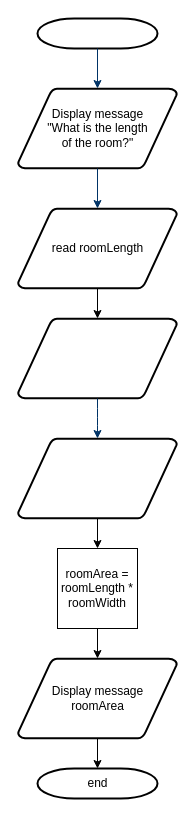
Some shapes in this 195 by 816 pixel diagram are drawn without their labels. The shapes that lost their labels are listed below. From the top down, each one's centre as x and y in pixels, then its label:
point (97, 33): start
point (97, 358): Display message "What is the width of the room?"
point (97, 478): read roomWidth
